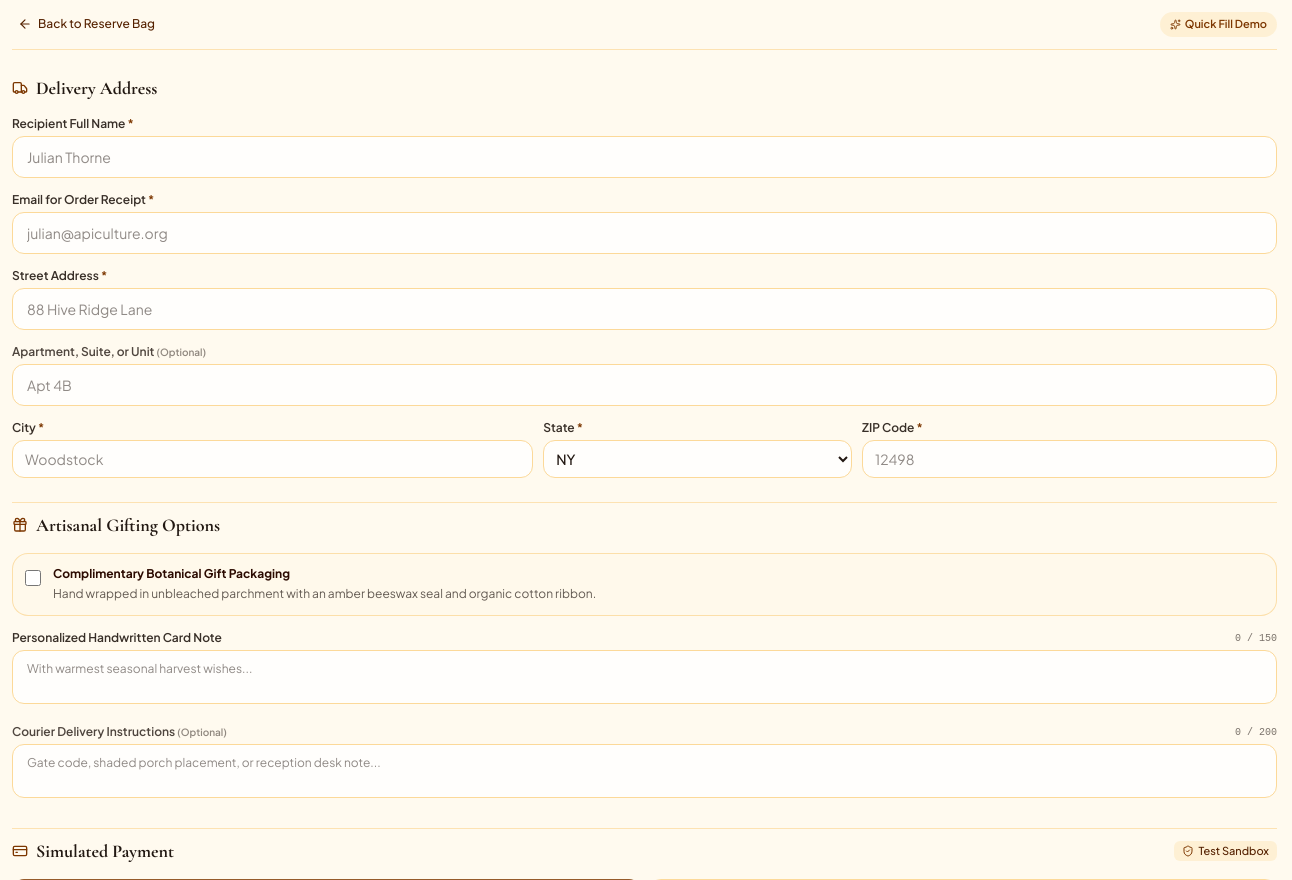
Scenario: CheckoutForm Component (satisfies AC-4, AC-5, AC-6, AC-7) › updates character counter as user types into gift note and delivery instructions (AC-4, AC-6)
The width and height of the screenshot is (1292, 880).
Type "Harvest greetings" into the text box labelled "Personalized Handwritten Card Note" at (644, 677), box [12,650,1277,704]
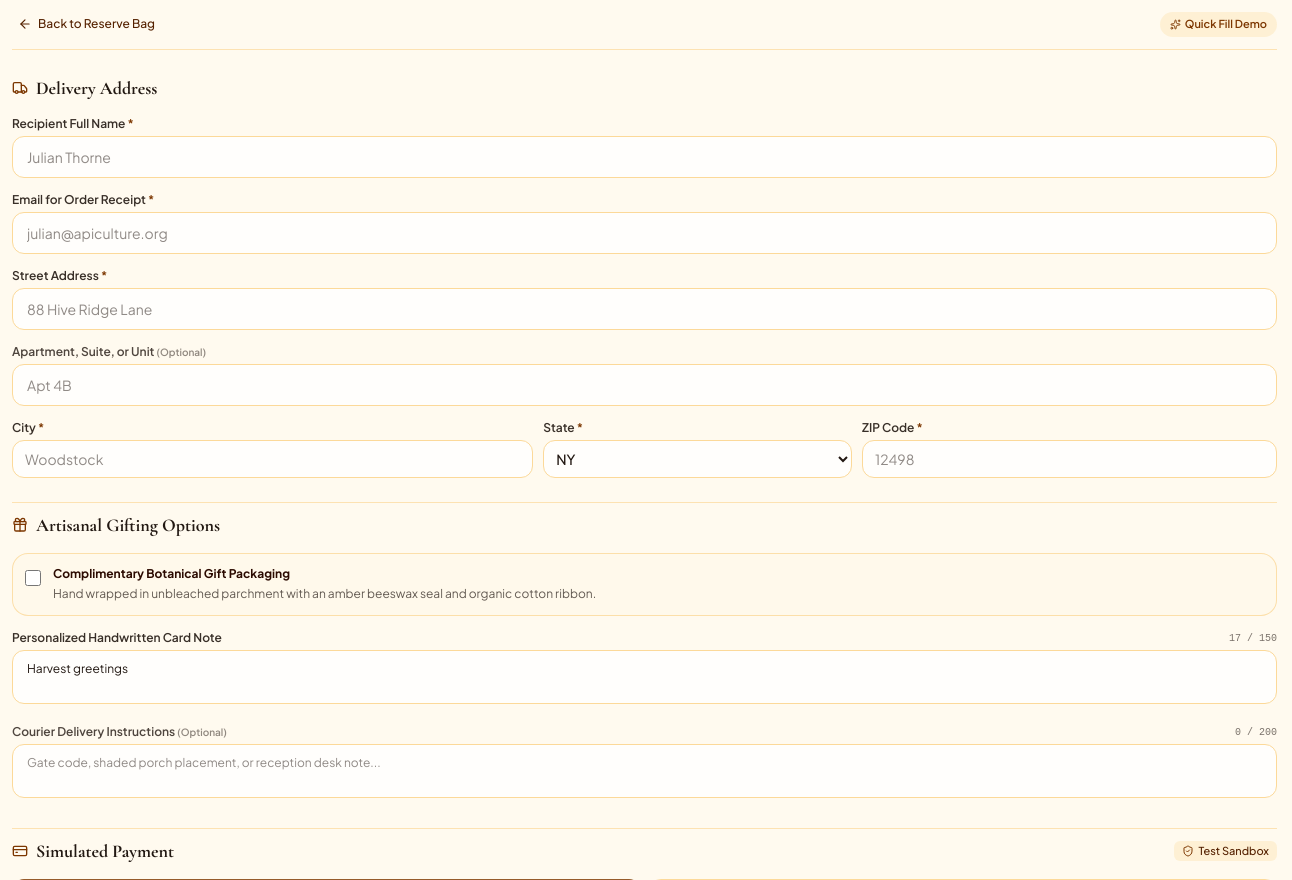
Result: the text "17 / 150" is shown at [1229,630,1277,646]
Type "Gate code 1234" into the text box labelled "Courier Delivery Instructions (Optional)" at (644, 771), box [12,744,1277,798]
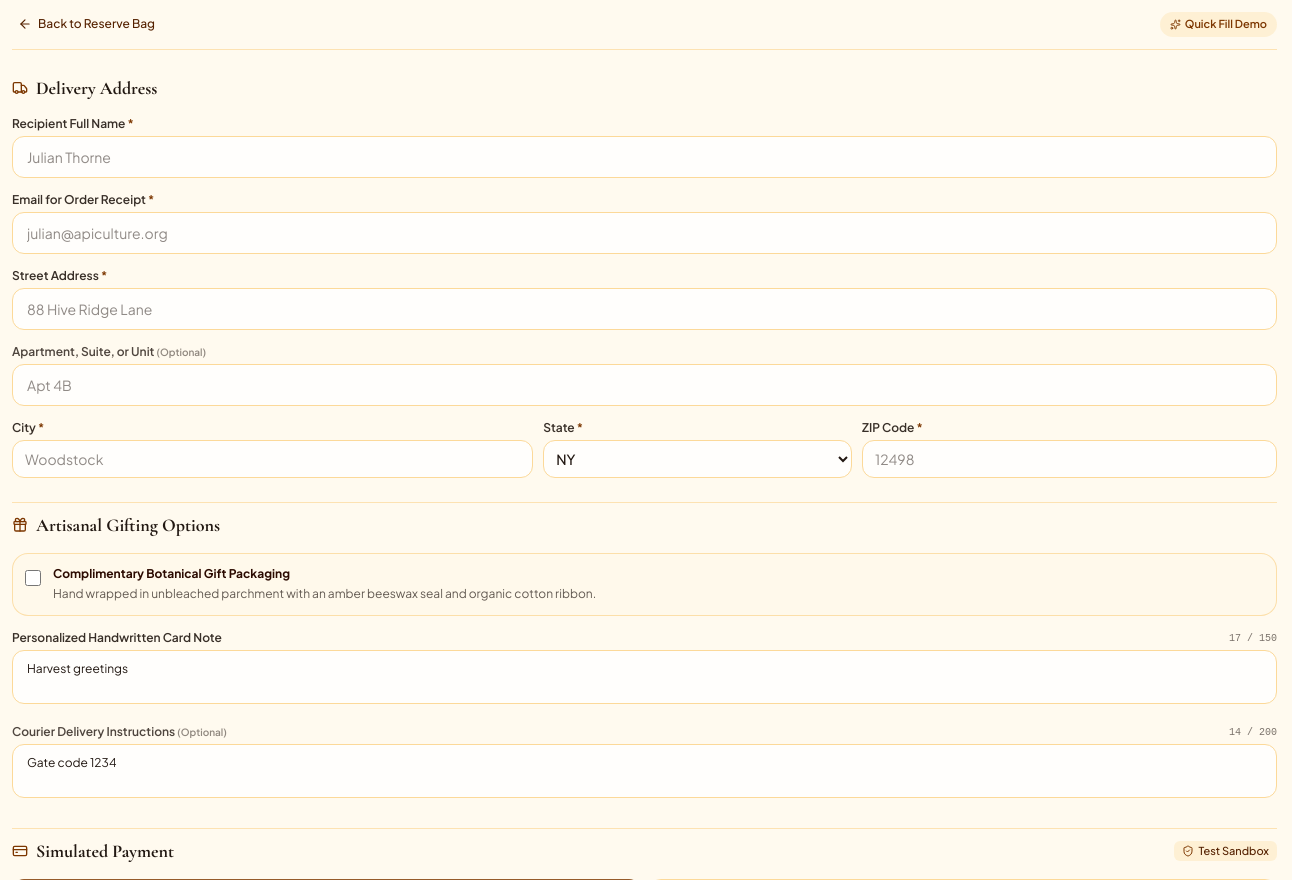
Result: the text "14 / 200" is shown at [1229,724,1277,740]
